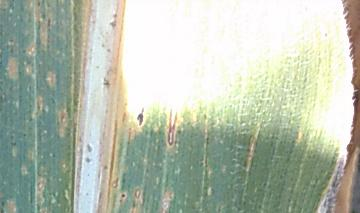tarspot: (134, 102, 149, 134), (116, 190, 131, 205)
